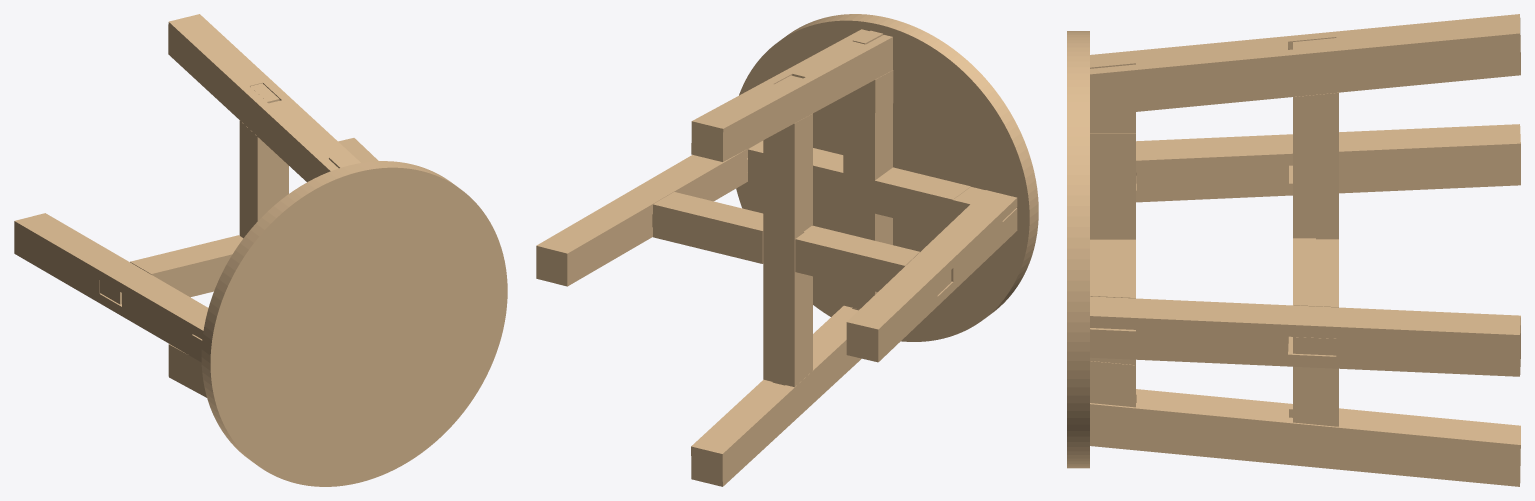
Rendered from chair_03.obj.
The picture shows the model from 3 angles, left to right: view 1: azimuth 30°, elevation 25°; view 2: azimuth 150°, elevation 25°; view 3: azimuth 270°, elevation 25°; orthographic projection. The views are drawn at different scales.
Parts seen in each view (by area): view 1: obj_0; view 2: obj_0; view 3: obj_0.
Boxes of the visible parts, box(x1,y1,x2,y2) form: obj_0: box(14, 14, 507, 486); obj_0: box(536, 14, 1038, 486); obj_0: box(1067, 14, 1520, 486).
Size of the model in its own units: 109 by 109 by 98.6.
